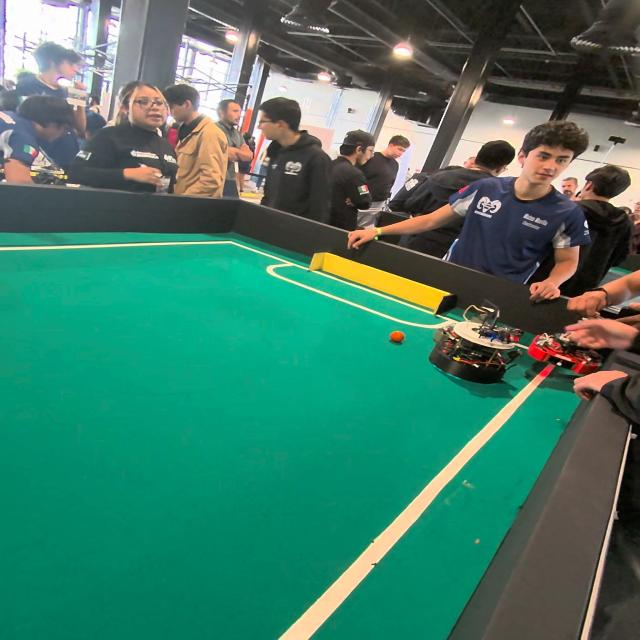Robot: (427, 298, 524, 392), (534, 320, 607, 380)
pelota: (388, 331, 407, 346)
